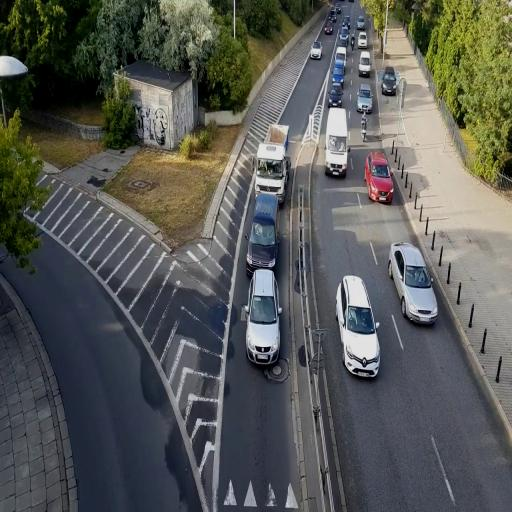vehicle: (336, 273, 380, 378), (336, 274, 380, 378), (388, 242, 438, 326), (244, 269, 281, 366), (254, 123, 290, 204), (246, 190, 278, 274), (324, 106, 348, 178), (364, 150, 394, 204), (356, 83, 374, 113), (381, 68, 398, 95), (328, 80, 344, 104), (309, 39, 323, 59)
